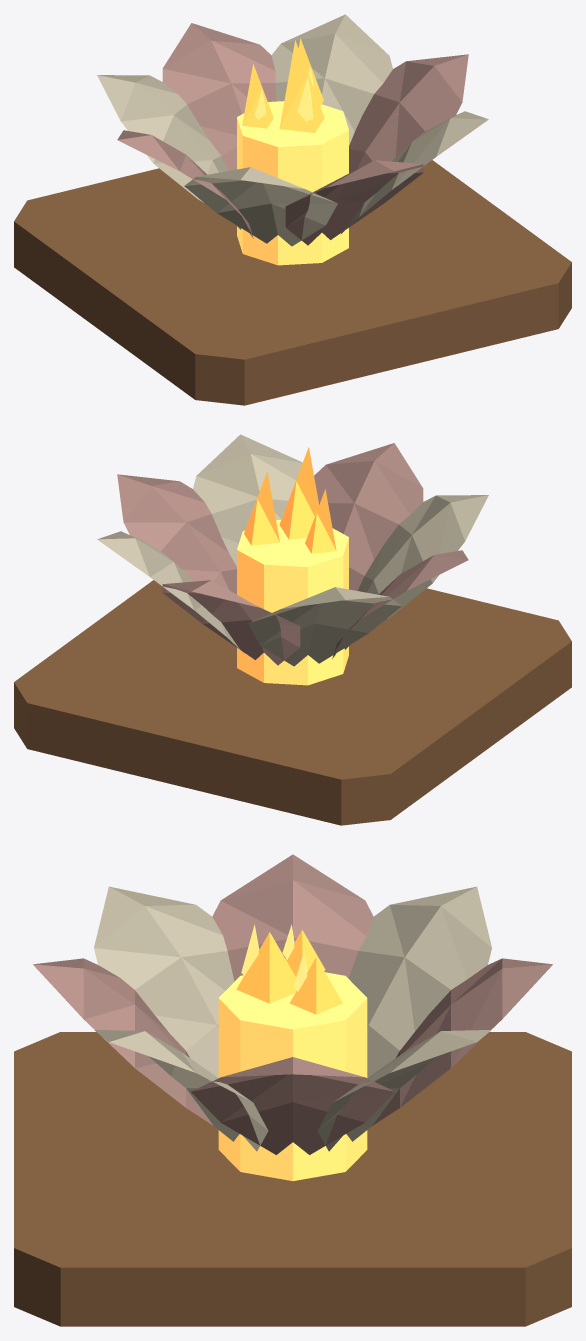
File: lantern_float.glb
3 renders of one model, top to bottom at view 1: azimuth 30°, elevation 25°; view 2: azimuth 150°, elevation 25°; view 3: azimuth 270°, elevation 25°, orthographic. The views are drawn at different scales.
Parts seen in each view (by area): view 1: geometry, light; view 2: geometry, light; view 3: geometry, light.
Part boxes in pixels (box(x1,y1,x2,y2)): geometry: box(14, 14, 571, 405); light: box(237, 38, 348, 265); geometry: box(14, 434, 571, 825); light: box(237, 447, 348, 685); geometry: box(14, 854, 571, 1326); light: box(218, 924, 367, 1180).
Size of the model in its own units: 0.6 by 0.39 by 0.6.
